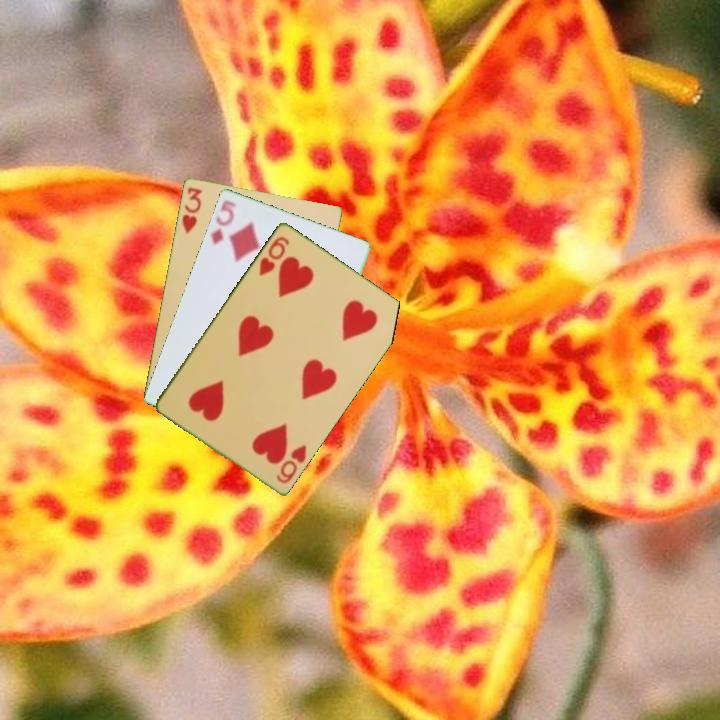3h: (178, 183, 205, 236)
5d: (206, 196, 239, 247)
6h: (255, 232, 292, 278), (273, 440, 309, 486)
